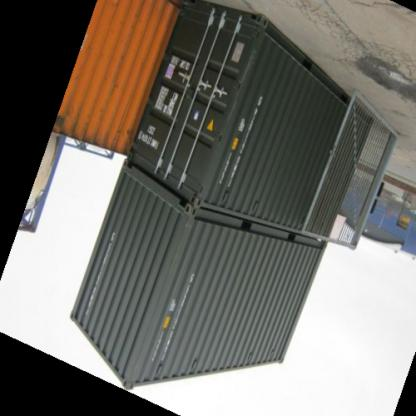Damage: (157, 212, 197, 298), (220, 49, 258, 124), (102, 46, 130, 108), (51, 106, 85, 138)
